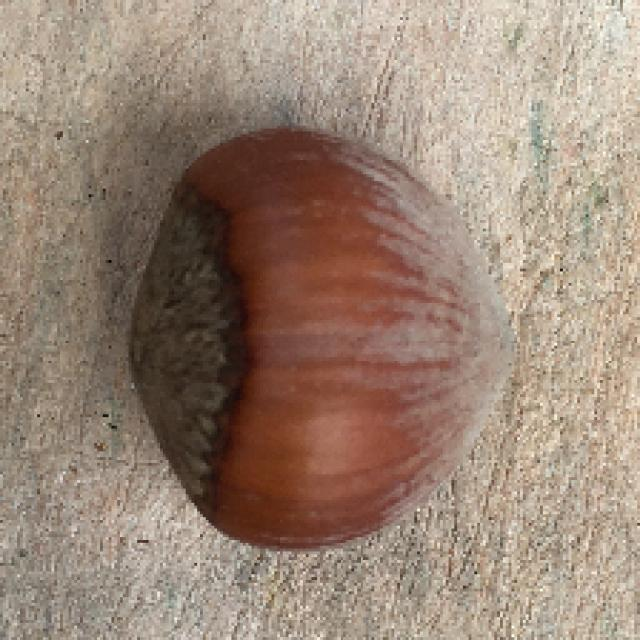qualityHazelnut: (125, 117, 519, 559)
